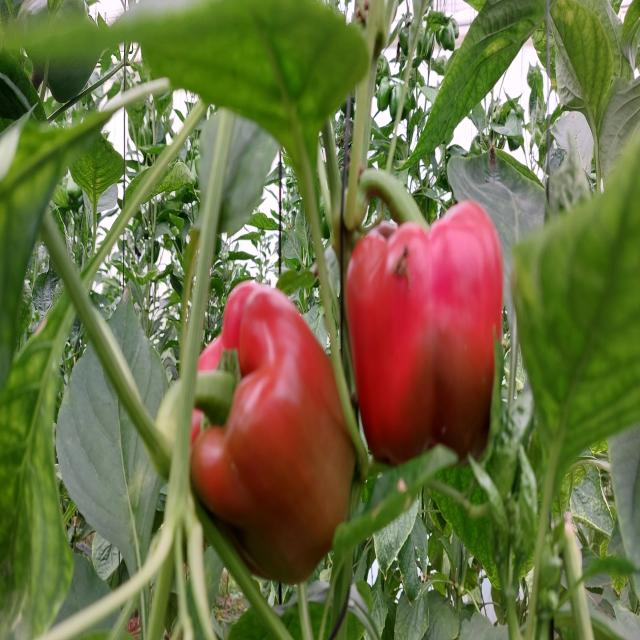Red-Ready-to-Harvest: (158, 273, 352, 617), (335, 177, 516, 482)
